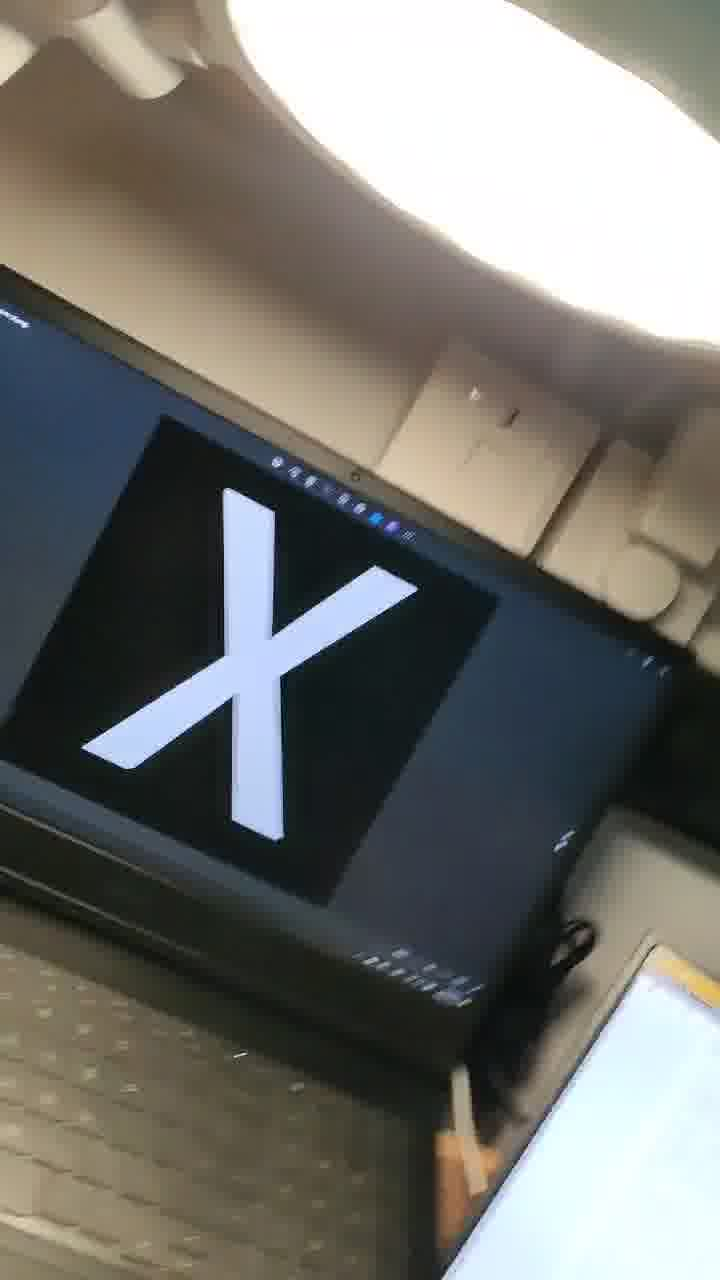X: (76, 441, 428, 946)
